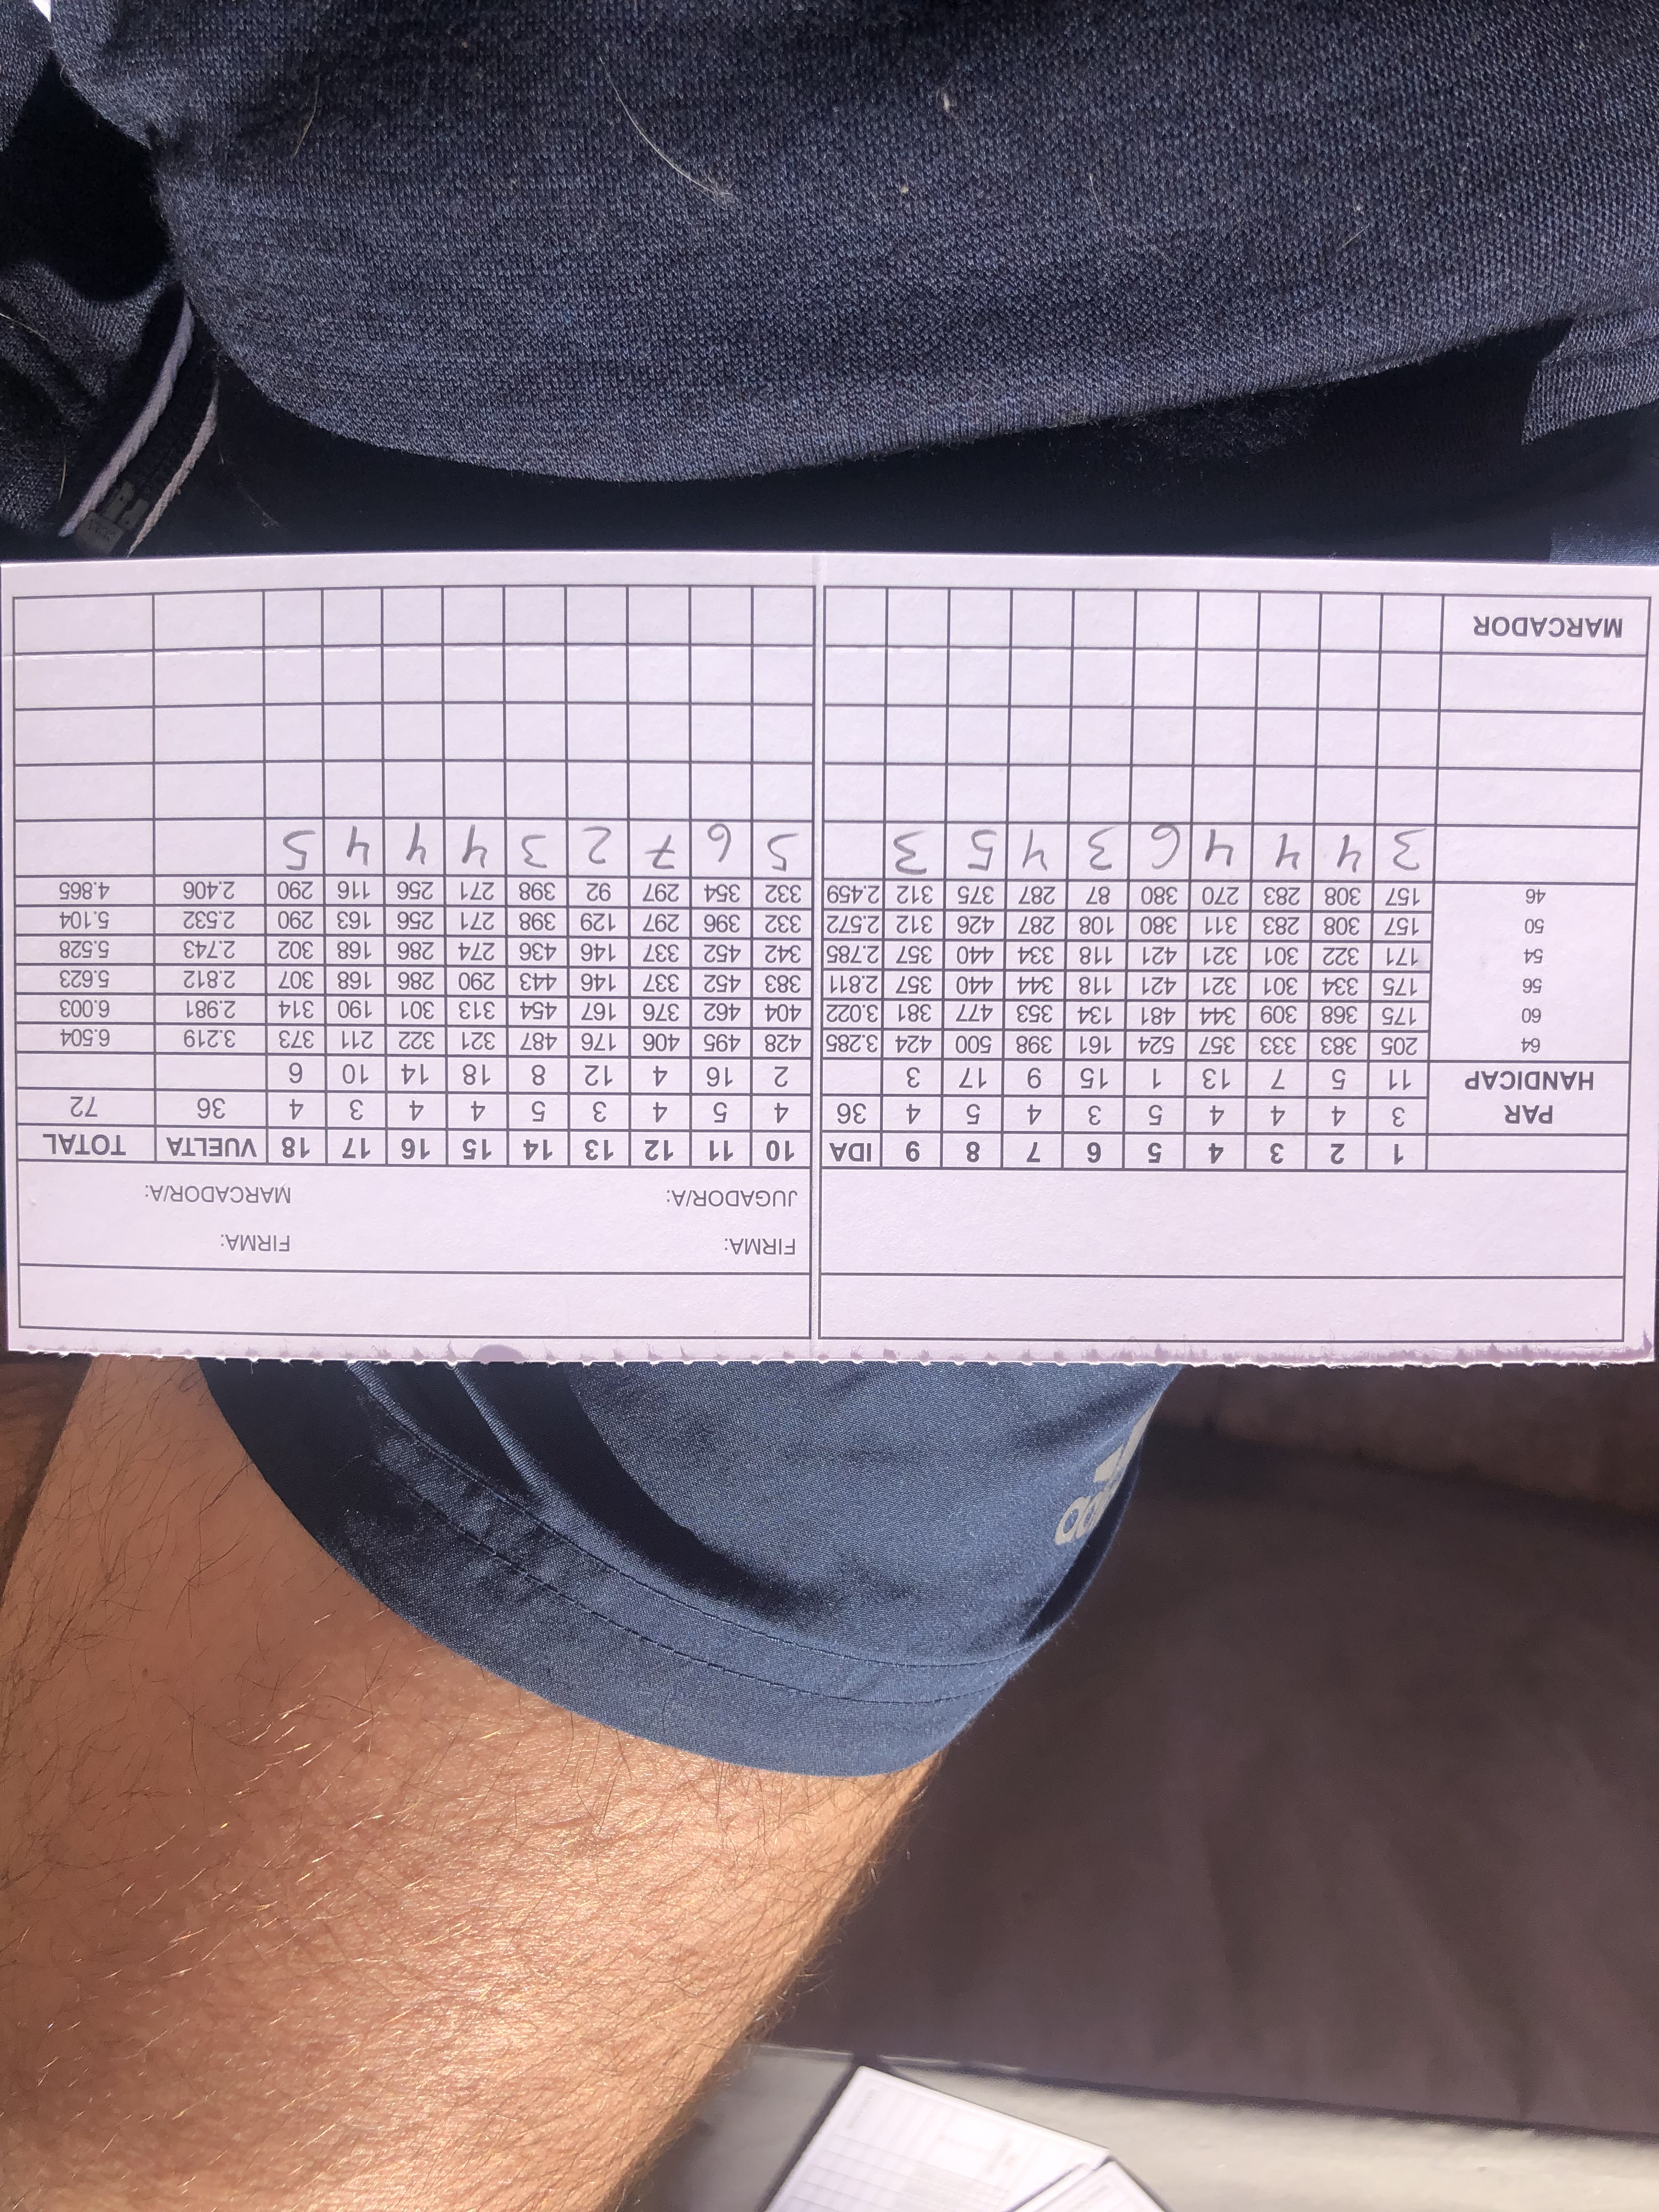par: (56, 1090, 1556, 1130)
score: (279, 822, 1424, 878)
